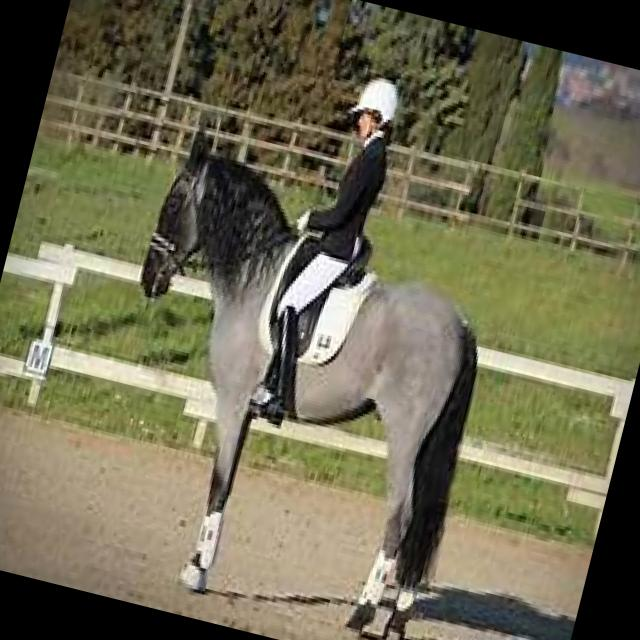animal: (7, 93, 592, 640)
